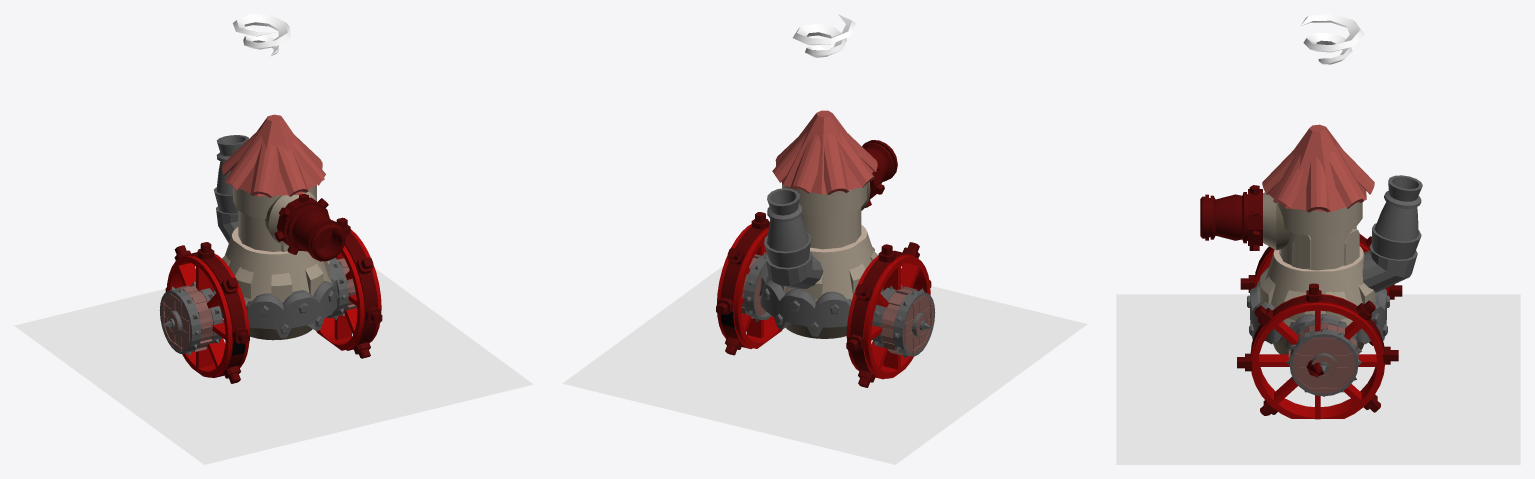
Rendered from Mob_SmallCannon.glb.
The picture shows the model from 3 angles, left to right: view 1: azimuth 30°, elevation 25°; view 2: azimuth 150°, elevation 25°; view 3: azimuth 270°, elevation 25°; orthographic projection. The views are drawn at different scales.
Parts seen in each view (by area): view 1: VFX_Slow, Bottom, Base, Rad.044, Rad.045, radtest (2), Cannon, Wanderburg_Models_tf_Stun_001, radtest (1); view 2: VFX_Slow, Bottom, Base, Rad.044, Rad.045, radtest (2), Wanderburg_Models_tf_Stun_001, radtest (1), Cannon; view 3: VFX_Slow, Base, Bottom, Rad.045, radtest (1), Cannon, Wanderburg_Models_tf_Stun_001, Rad.044.
Boxes of the visible parts, left/top/right/bottom form: VFX_Slow: left=14, top=268, right=533, bottom=464; Bottom: left=213, top=135, right=338, bottom=340; Base: left=222, top=114, right=325, bottom=251; Rad.044: left=165, top=242, right=249, bottom=383; Rad.045: left=316, top=217, right=382, bottom=358; radtest (2): left=159, top=281, right=222, bottom=355; Cannon: left=274, top=193, right=345, bottom=261; Wanderburg_Models_tf_Stun_001: left=233, top=14, right=290, bottom=56; radtest (1): left=326, top=257, right=357, bottom=319; VFX_Slow: left=562, top=265, right=1087, bottom=464; Bottom: left=759, top=188, right=883, bottom=338; Base: left=772, top=110, right=877, bottom=249; Rad.044: left=846, top=242, right=931, bottom=387; Rad.045: left=716, top=212, right=782, bottom=355; radtest (2): left=872, top=284, right=935, bottom=358; Wanderburg_Models_tf_Stun_001: left=793, top=14, right=855, bottom=57; radtest (1): left=741, top=252, right=771, bottom=322; Cannon: left=862, top=140, right=897, bottom=207; VFX_Slow: left=1116, top=294, right=1520, bottom=464; Base: left=1262, top=124, right=1374, bottom=270; Bottom: left=1247, top=175, right=1422, bottom=354; Rad.045: left=1237, top=283, right=1398, bottom=419; radtest (1): left=1286, top=317, right=1361, bottom=396; Cannon: left=1200, top=185, right=1262, bottom=250; Wanderburg_Models_tf_Stun_001: left=1300, top=14, right=1364, bottom=64; Rad.044: left=1240, top=234, right=1402, bottom=345.
Bounding box in the file's own units: 25.03 × 25.32 × 25.03.
Materials: 4 (3 with a texture image).
